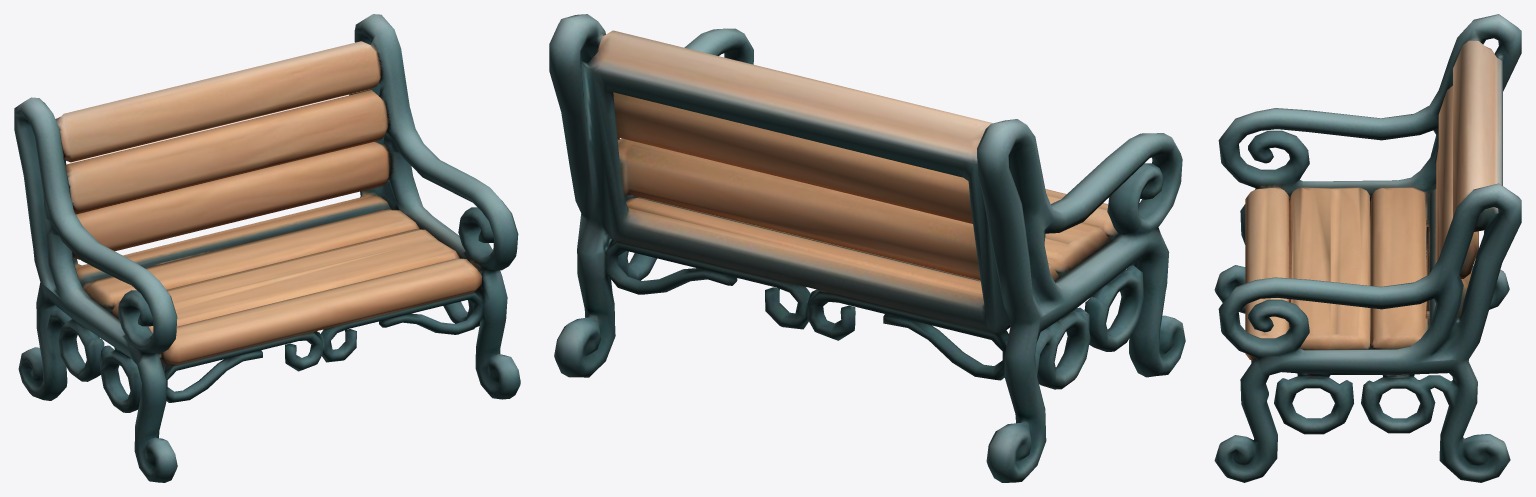
The model's file is bench.glb.
3 renders of one model, left to right at view 1: azimuth 30°, elevation 25°; view 2: azimuth 150°, elevation 25°; view 3: azimuth 270°, elevation 25°, orthographic. The views are drawn at different scales.
Parts seen in each view (by area): view 1: tripo_node_0a440661-9012-445a-a40f-bc5268aadf23; view 2: tripo_node_0a440661-9012-445a-a40f-bc5268aadf23; view 3: tripo_node_0a440661-9012-445a-a40f-bc5268aadf23.
Part boxes in pixels (box(x1,y1,x2,y2)): tripo_node_0a440661-9012-445a-a40f-bc5268aadf23: box(14, 14, 520, 482); tripo_node_0a440661-9012-445a-a40f-bc5268aadf23: box(549, 14, 1185, 482); tripo_node_0a440661-9012-445a-a40f-bc5268aadf23: box(1214, 14, 1521, 482).
Size of the model in its own units: 0.9807 by 0.7504 by 0.7043.
Materials: 1 (1 with a texture image).
